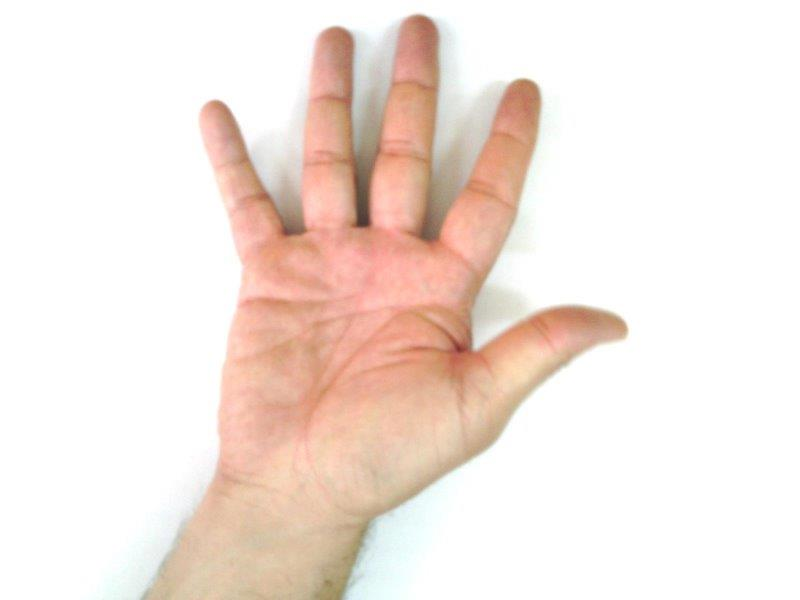hand: (199, 15, 629, 504)
